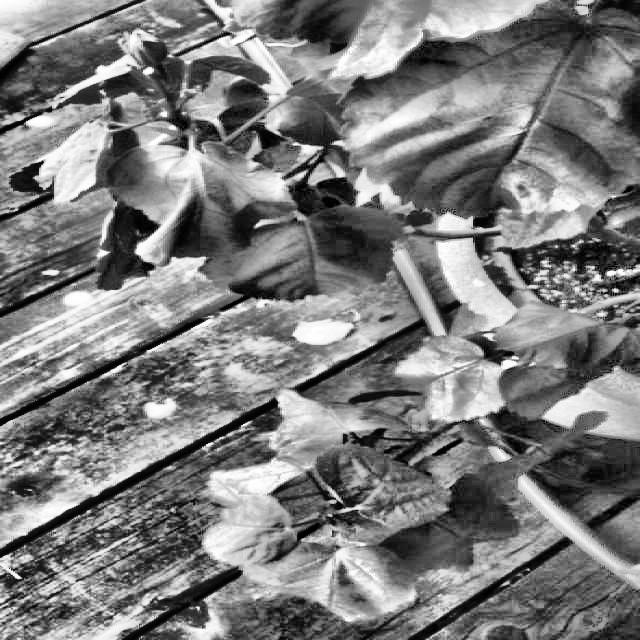plants: (28, 0, 638, 614), (162, 376, 594, 606), (24, 108, 438, 304)
